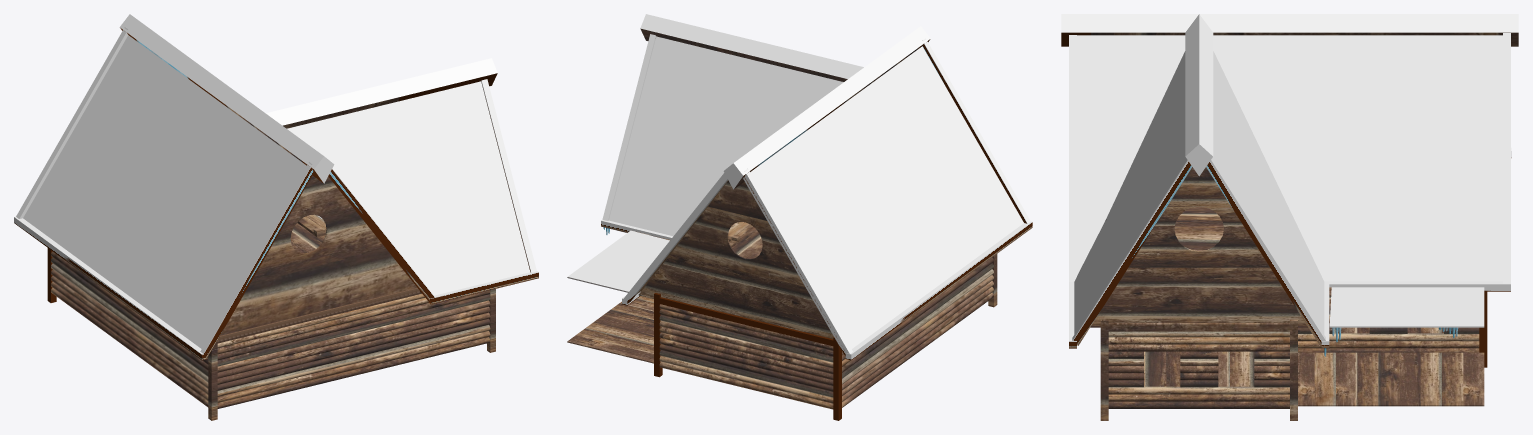
File: cabin.fbx
The picture shows the model from 3 angles, left to right: view 1: azimuth 30°, elevation 25°; view 2: azimuth 150°, elevation 25°; view 3: azimuth 270°, elevation 25°; orthographic projection. The views are drawn at different scales.
Parts seen in each view (by area): view 1: pCube8; view 2: pCube8; view 3: pCube8.
Part boxes in pixels (box(x1,y1,x2,y2)): pCube8: box(14, 14, 538, 420); pCube8: box(567, 14, 1032, 420); pCube8: box(1061, 14, 1518, 420).
Bounding box in the file's own units: 29.75 × 20.88 × 29.
1 material, 1 textured.
